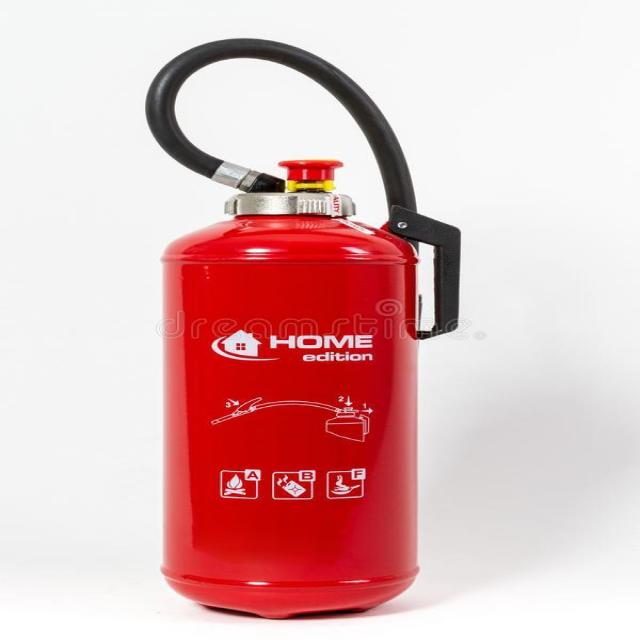fire_extinguisher: (133, 31, 465, 624)
